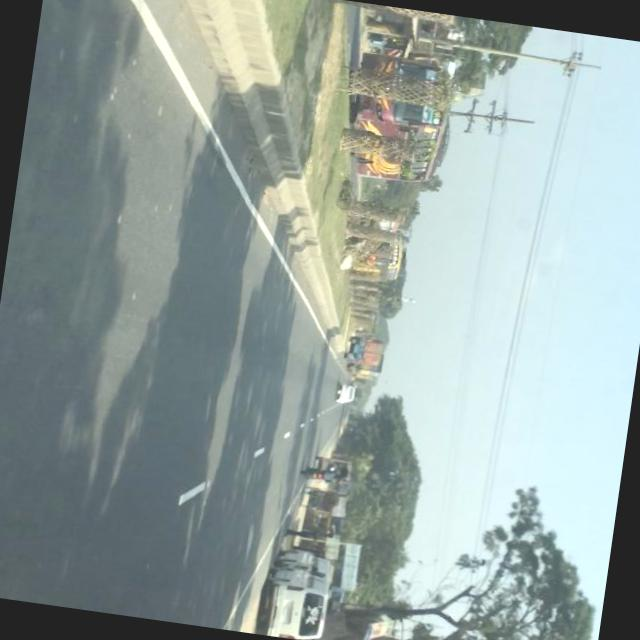bus: (341, 96, 446, 186)
car: (332, 380, 358, 410)
motorcycle: (303, 462, 342, 488)
truck: (258, 562, 333, 640), (343, 334, 386, 371)
